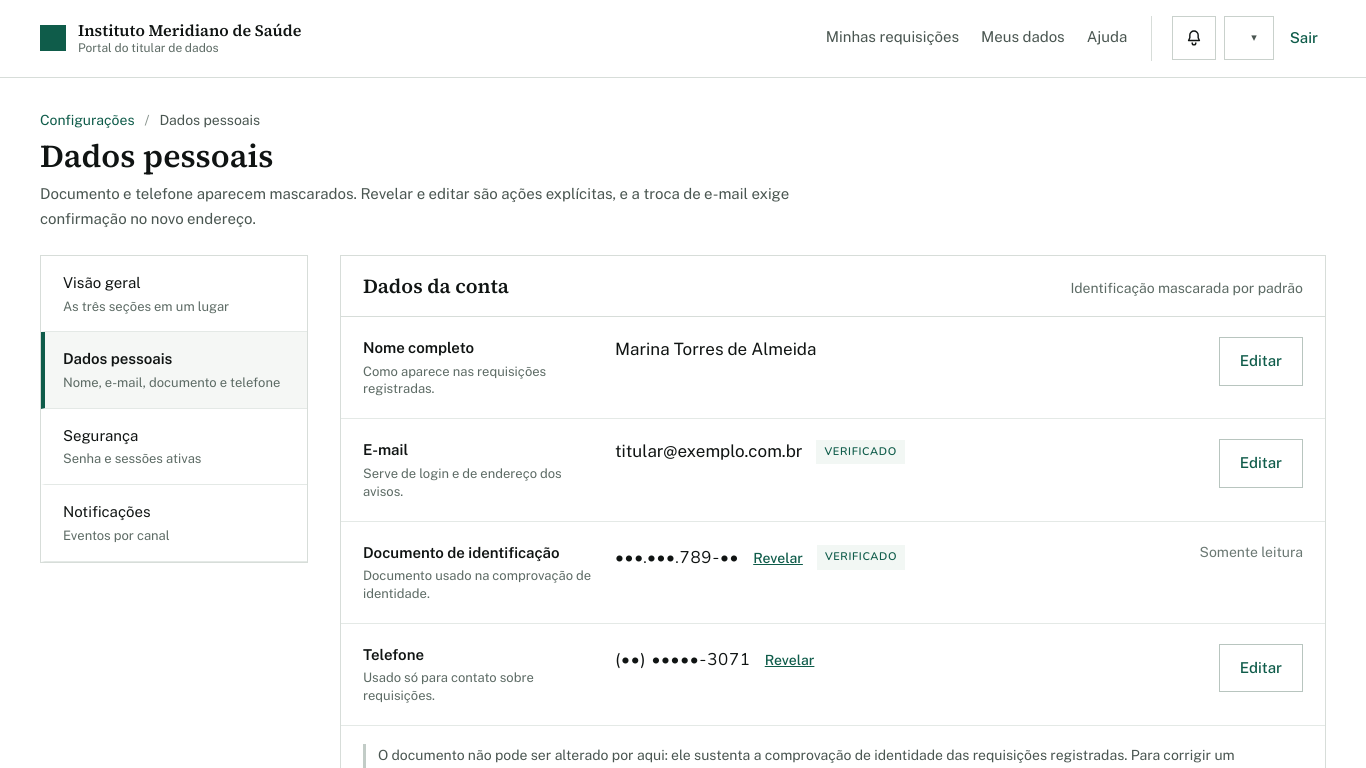
Test case: PersonalDataView › revela o documento por ação explícita
Expected: the text "476.201.789-04" is not shown
What coordinates should you click on to do the following:
click the button "Revelar" next to "•••.•••.789-••"
I would click on:
 (778, 558)
Its box is [753,542,803,574].
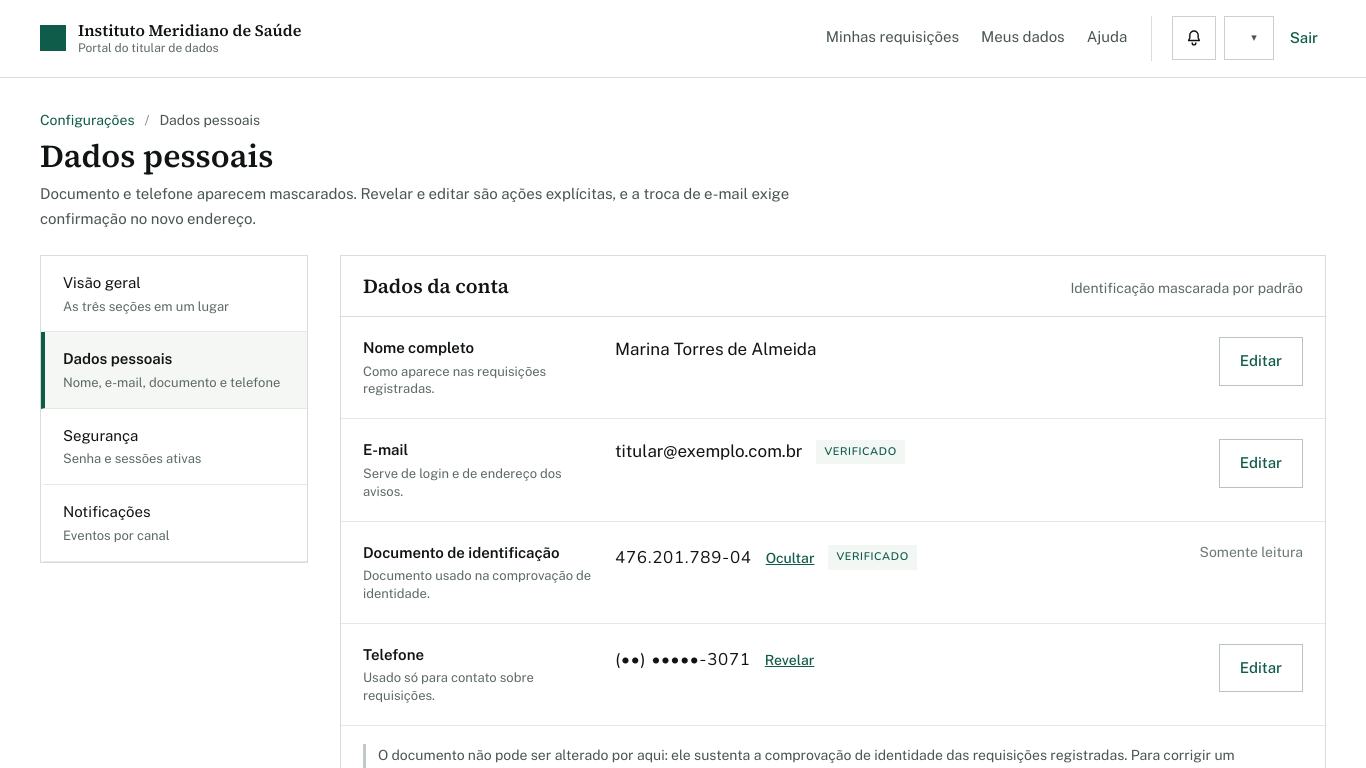
Expected: the text "476.201.789-04" is shown, [615,545,752,570]
